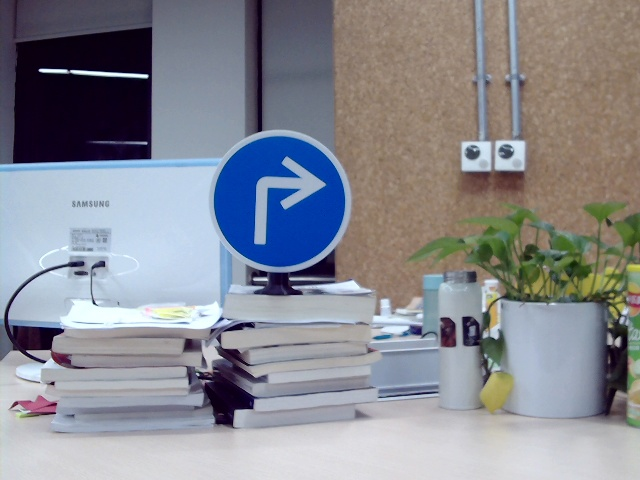turn_right: (246, 154, 326, 253)
